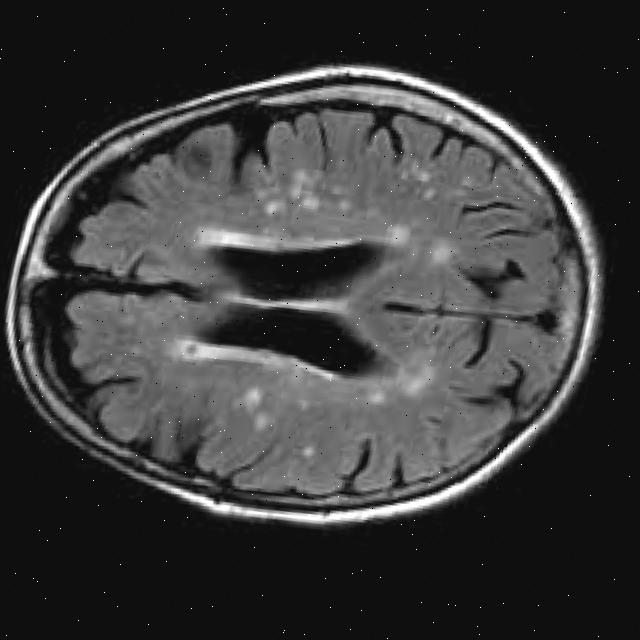NoTumor: (0, 9, 638, 571)
